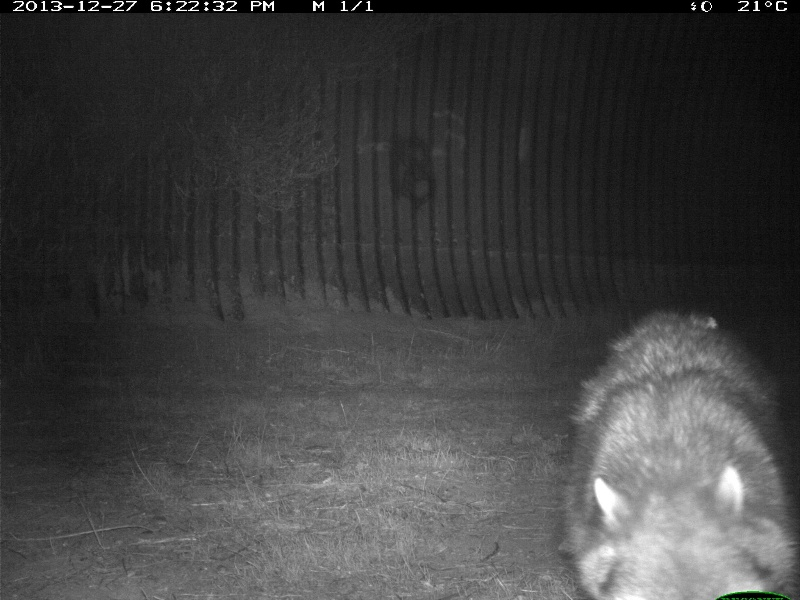raccoon: (560, 301, 795, 596)
